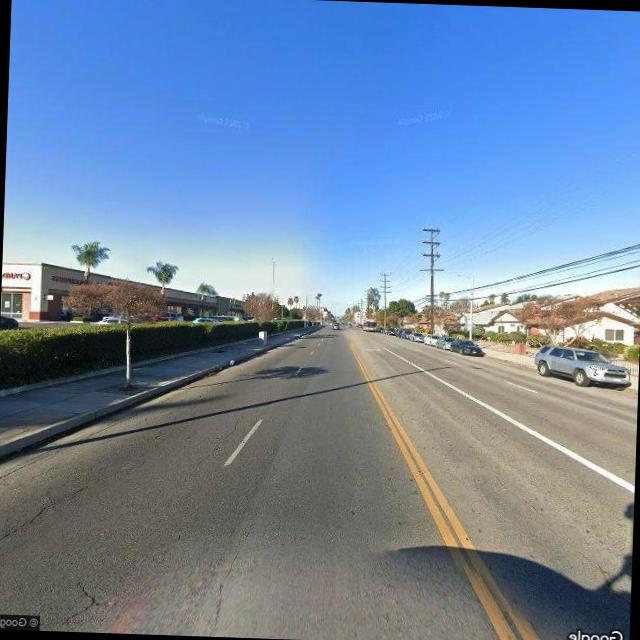pothole: (0, 437, 163, 547), (55, 570, 103, 630), (223, 406, 250, 446)
